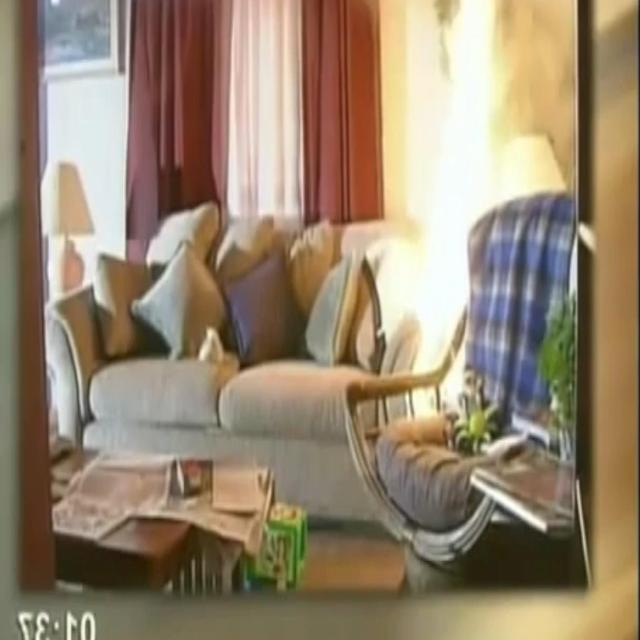smoke: (402, 0, 499, 420)
